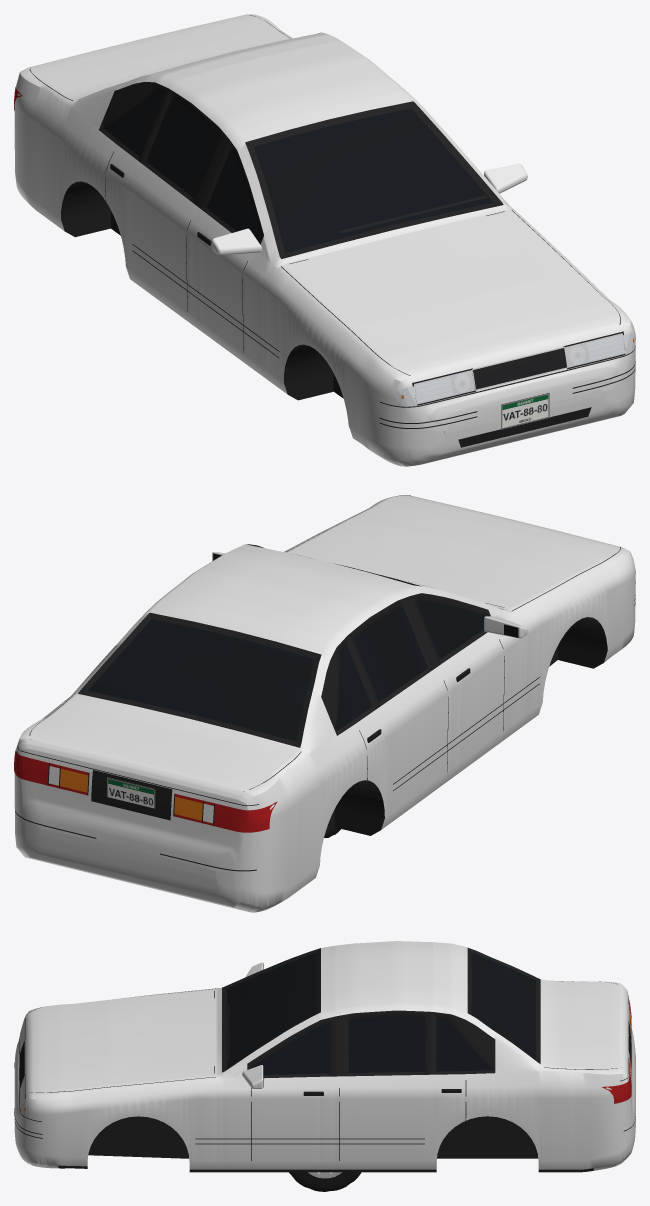
File: nissan-tsuru-particular.glb
The picture shows the model from 3 angles, top to bottom: view 1: azimuth 30°, elevation 25°; view 2: azimuth 150°, elevation 25°; view 3: azimuth 270°, elevation 25°; orthographic projection. The views are drawn at different scales.
Visible parts, largest first — view 1: body; view 2: body; view 3: body, wheel.
Part boxes in pixels (box(x1,y1,x2,y2)): body: box(14, 14, 635, 466); body: box(14, 495, 635, 912); body: box(14, 941, 635, 1172); wheel: box(289, 1172, 361, 1191).
Size of the model in its own units: 1.95 by 1.67 by 4.33.
Materials: 1 (1 with a texture image).
